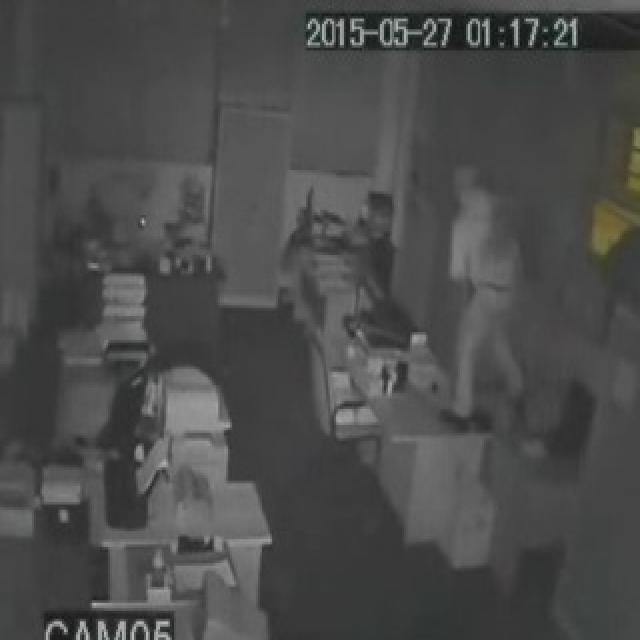thief: (440, 138, 513, 348)
